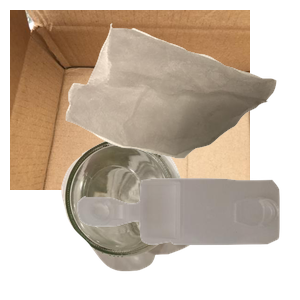cardboard: (10, 10, 250, 190)
glass: (59, 135, 254, 300)
plastic: (75, 176, 300, 300)
trash: (63, 21, 300, 172)
